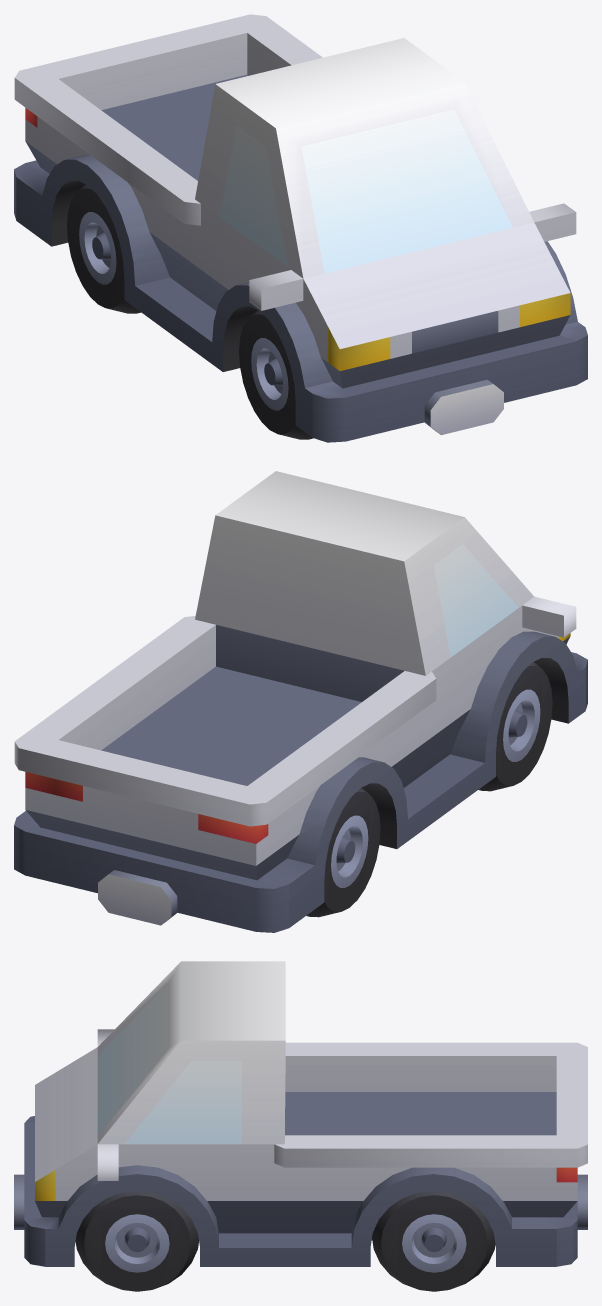
3 views of the same model, one above another, from view 1: azimuth 30°, elevation 25°; view 2: azimuth 150°, elevation 25°; view 3: azimuth 270°, elevation 25° (orthographic). The views are drawn at different scales.
Parts seen in each view (by area): view 1: body, wheel-back-right, wheel-front-right; view 2: body, wheel-front-right, wheel-back-right; view 3: body, wheel-front-left, wheel-back-left.
Part boxes in pixels (box(x1,y1,x2,y2)): body: box(14, 14, 587, 442); wheel-back-right: box(67, 184, 140, 313); wheel-front-right: box(239, 310, 313, 439); body: box(14, 471, 587, 932); wheel-front-right: box(478, 662, 552, 791); wheel-back-right: box(306, 787, 380, 917); body: box(14, 961, 587, 1266); wheel-front-left: box(75, 1191, 198, 1291); wheel-back-left: box(372, 1191, 495, 1291).
Bounding box in the file's own units: 1.5 × 1.3 × 2.75.
1 material, 1 textured.
